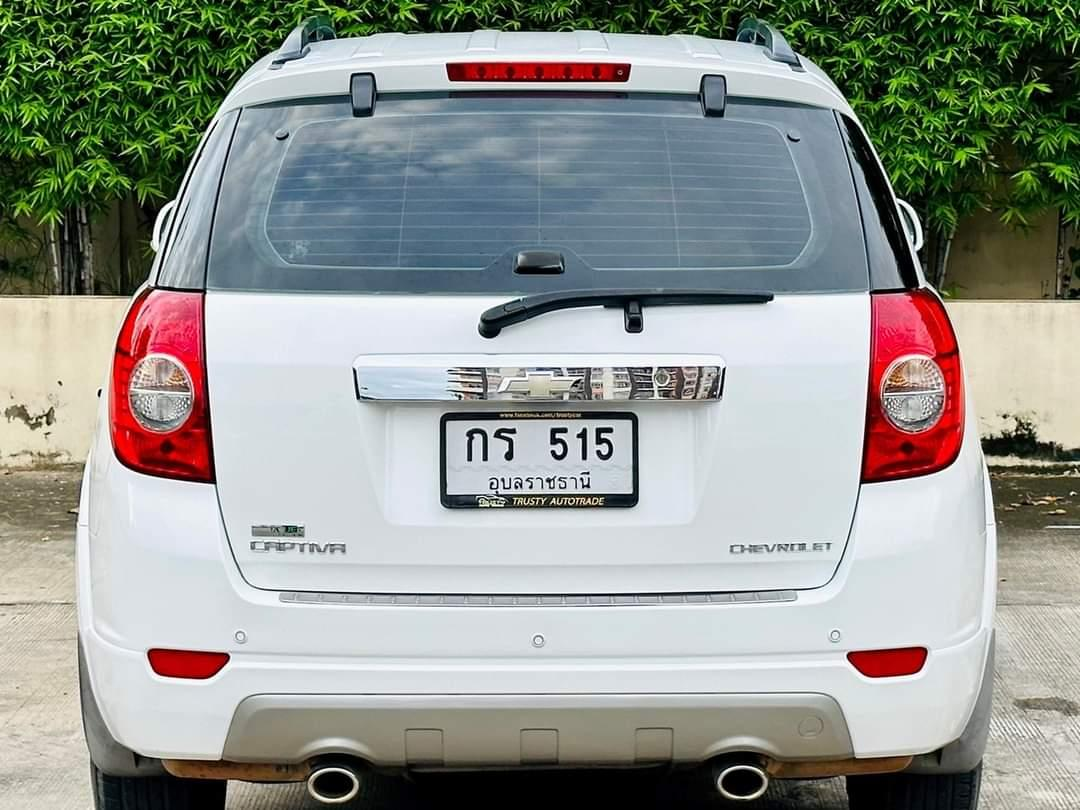license-plate: (438, 410, 641, 511)
